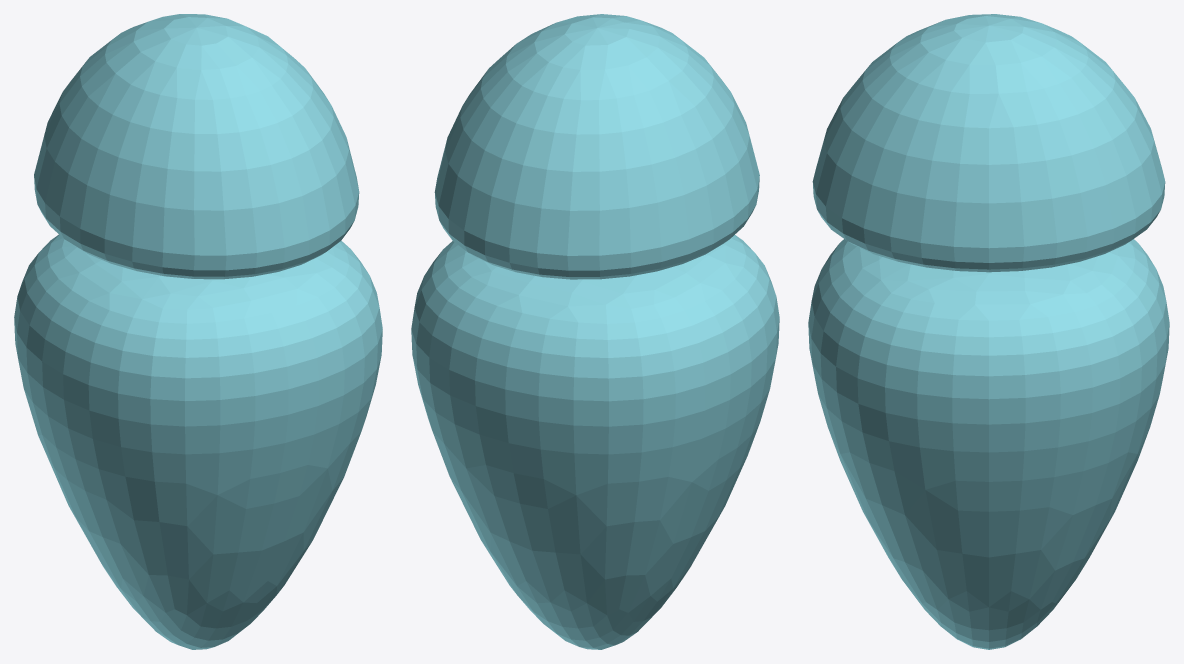
File: npc_sin_manos.fbx
The picture shows the model from 3 angles, left to right: view 1: azimuth 30°, elevation 25°; view 2: azimuth 150°, elevation 25°; view 3: azimuth 270°, elevation 25°; orthographic projection.
Parts seen in each view (by area): view 1: Cube.002; view 2: Cube.002; view 3: Cube.002.
Boxes of the visible parts, x1,y1,x2,y2 form: Cube.002: (14, 14, 382, 649); Cube.002: (411, 14, 779, 649); Cube.002: (808, 14, 1169, 649).
Size of the model in its own units: 89.59 by 169 by 89.59.
